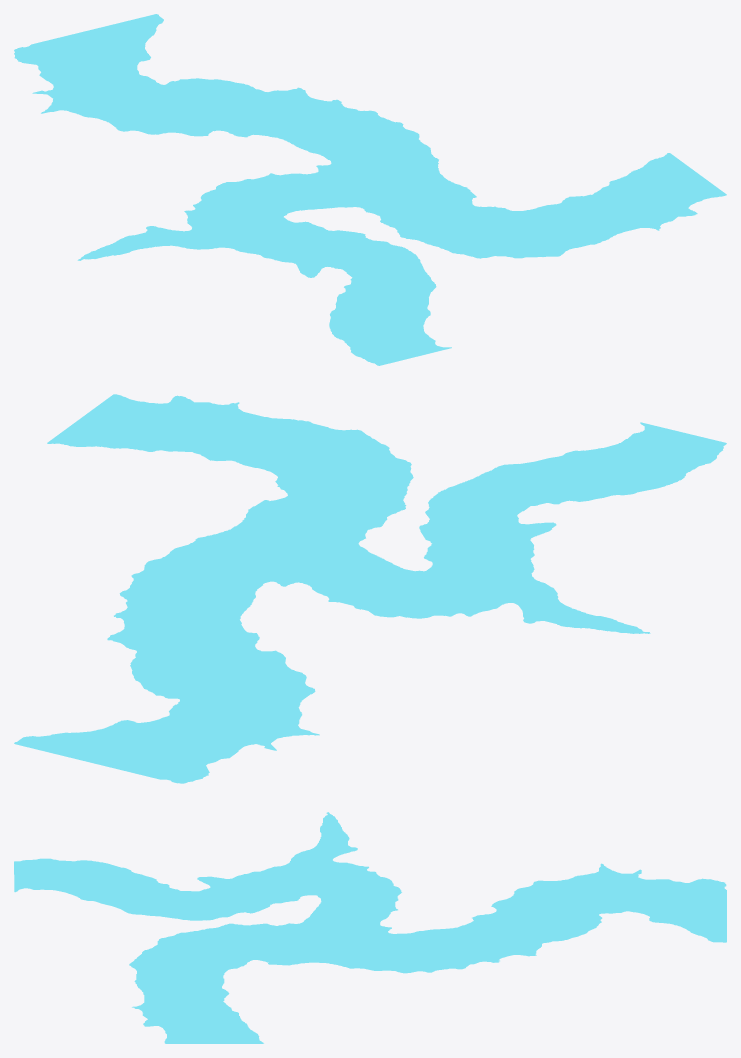
File: Zvikov_Vltava_soucasny_tok.glb
3 renders of one model, top to bottom at view 1: azimuth 30°, elevation 25°; view 2: azimuth 150°, elevation 25°; view 3: azimuth 270°, elevation 25°, orthographic. The views are drawn at different scales.
Parts seen in each view (by area): view 1: Vltava_soucasny_tok; view 2: Vltava_soucasny_tok; view 3: Vltava_soucasny_tok.
Boxes of the visible parts, box(x1,y1,x2,y2) form: Vltava_soucasny_tok: box(14, 14, 726, 365); Vltava_soucasny_tok: box(14, 394, 726, 783); Vltava_soucasny_tok: box(14, 812, 726, 1043).
Bounding box in the file's own units: 1398 × 0 × 1818.
